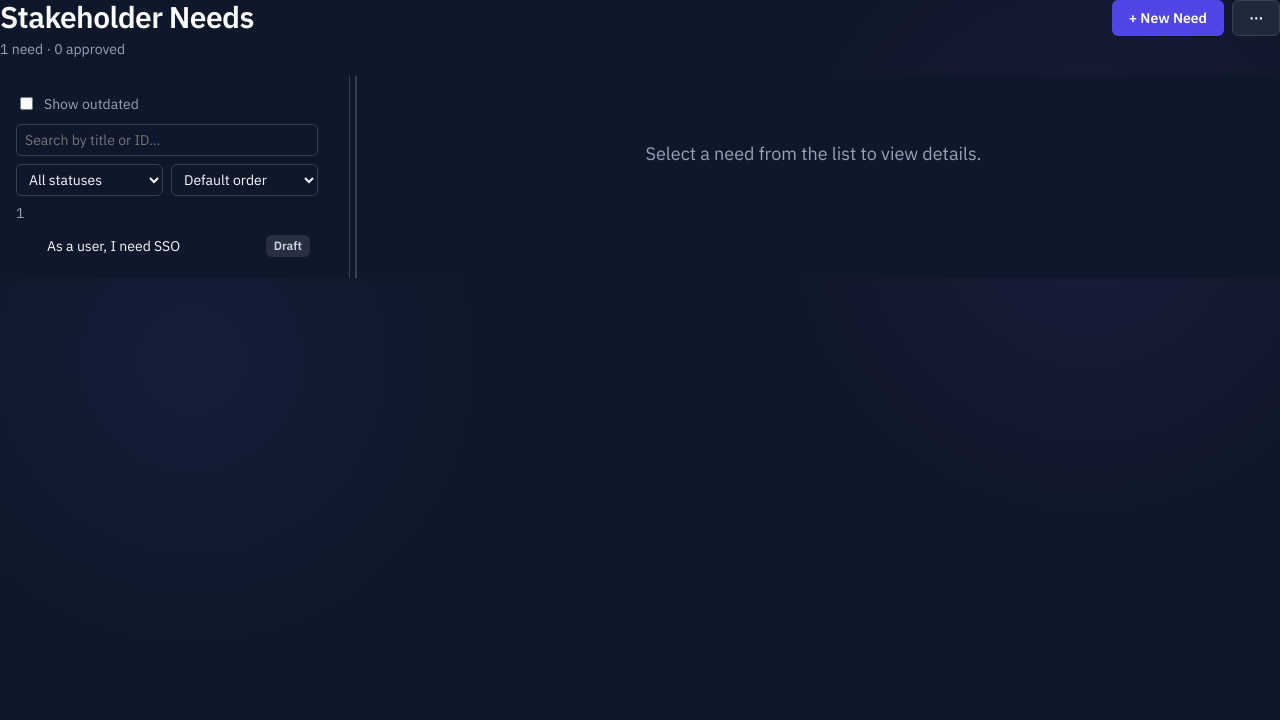
Test: NeedsEditors — create form sends description/category to the API (BUG-11 / F-06) › returns focus to the create button after Escape closes the dialog (#1278)
Step 1. Click the button with test id "create-need-btn" → (1168, 18), box [1112,0,1224,36]
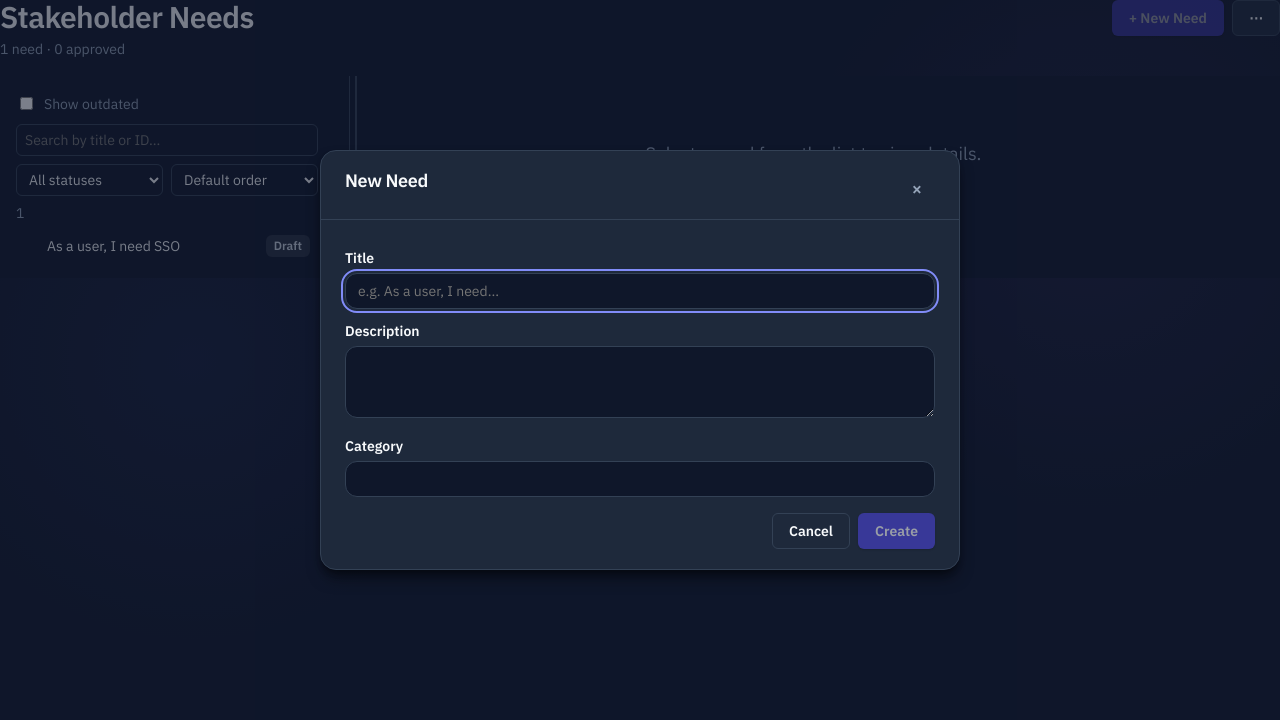
Check: the button with test id "create-need-btn" is disabled, box [1112,0,1224,36]
Check: the dialog with test id "need-new-dialog" is shown, box [320,150,960,570]
Step 2. Press Escape
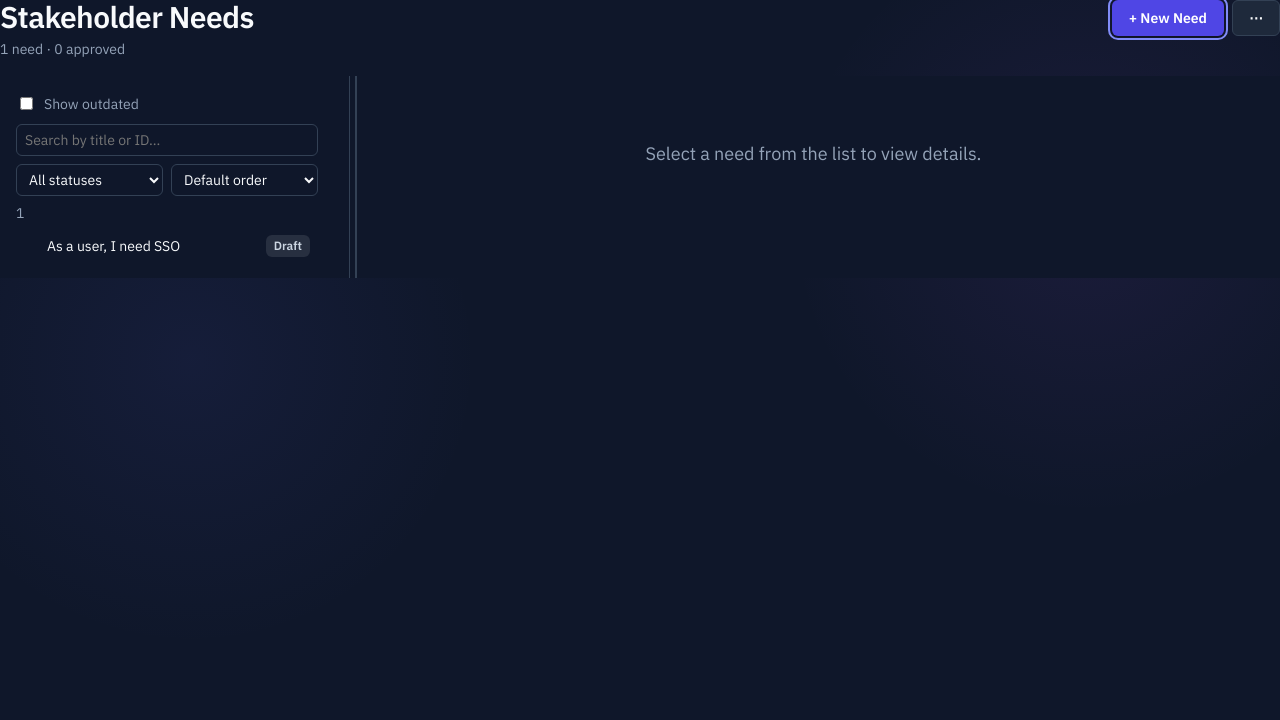
Check: the dialog with test id "need-new-dialog" is gone
Check: the button with test id "create-need-btn" is enabled, box [1112,0,1224,36]
